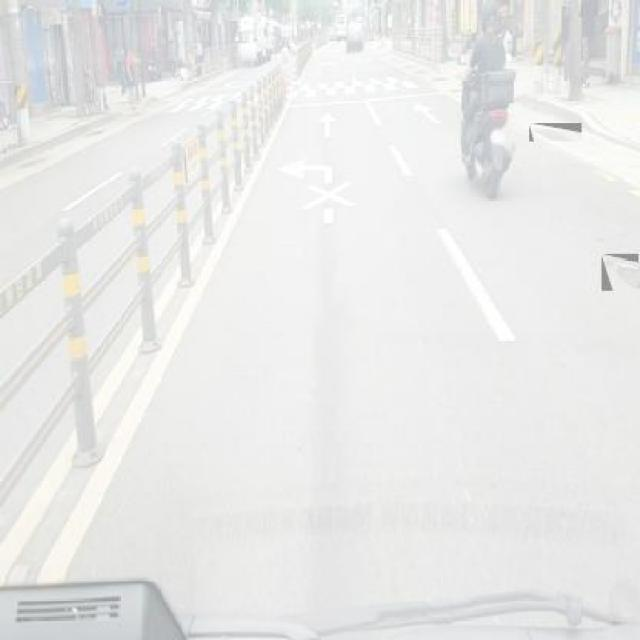Manhole: (602, 254, 640, 291), (529, 122, 582, 142)
